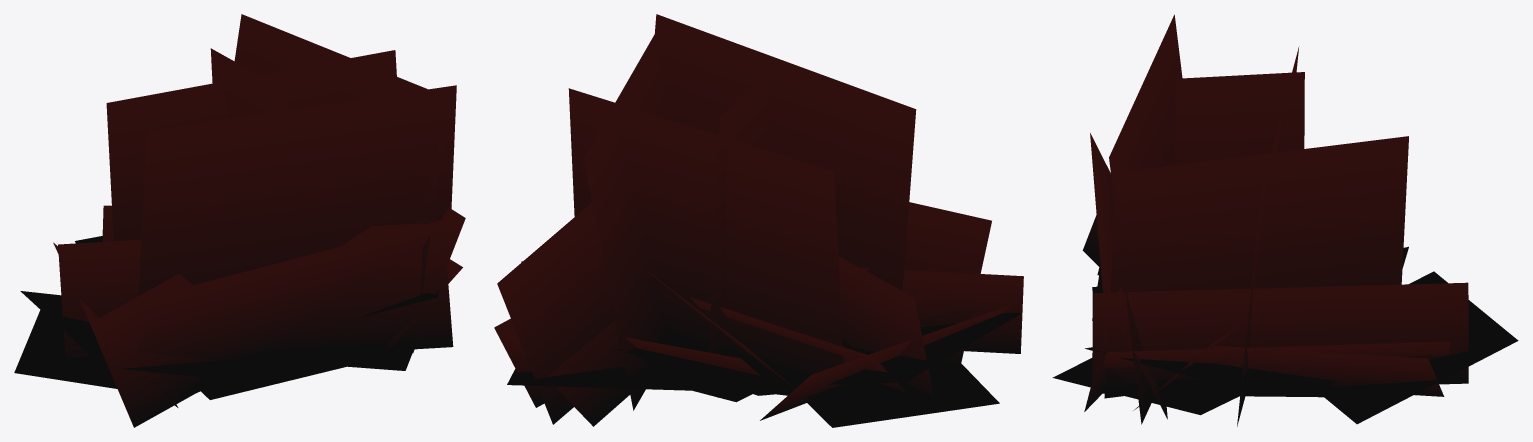
Rendered from TFD_Grass_Patch_03A.fbx.
3 views of the same model, side by side, from view 1: azimuth 30°, elevation 25°; view 2: azimuth 150°, elevation 25°; view 3: azimuth 270°, elevation 25° (orthographic). The views are drawn at different scales.
Visible parts, largest first — view 1: TFD_Grass_Patch_03A_LOD0; view 2: TFD_Grass_Patch_03A_LOD0; view 3: TFD_Grass_Patch_03A_LOD0.
Boxes of the visible parts, x1,y1,x2,y2 form: TFD_Grass_Patch_03A_LOD0: (14, 14, 465, 427); TFD_Grass_Patch_03A_LOD0: (494, 14, 1023, 427); TFD_Grass_Patch_03A_LOD0: (1052, 14, 1518, 426).
Size of the model in its own units: 222 by 124 by 192.
